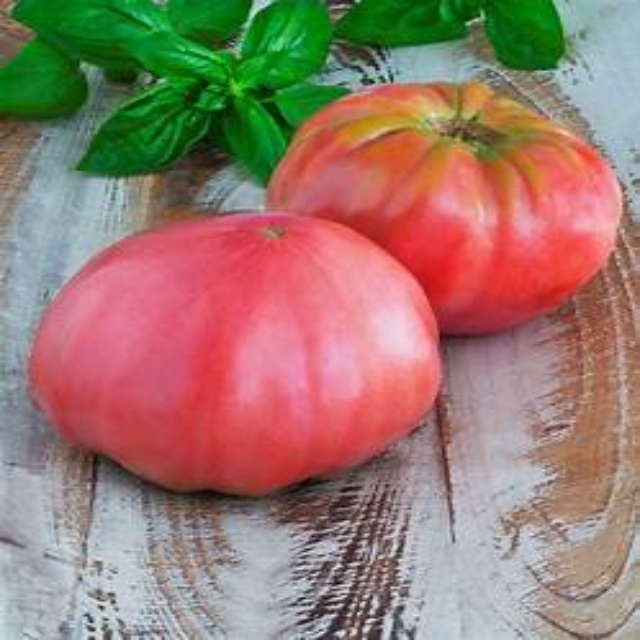tomato: (30, 207, 443, 499), (273, 80, 625, 339)
